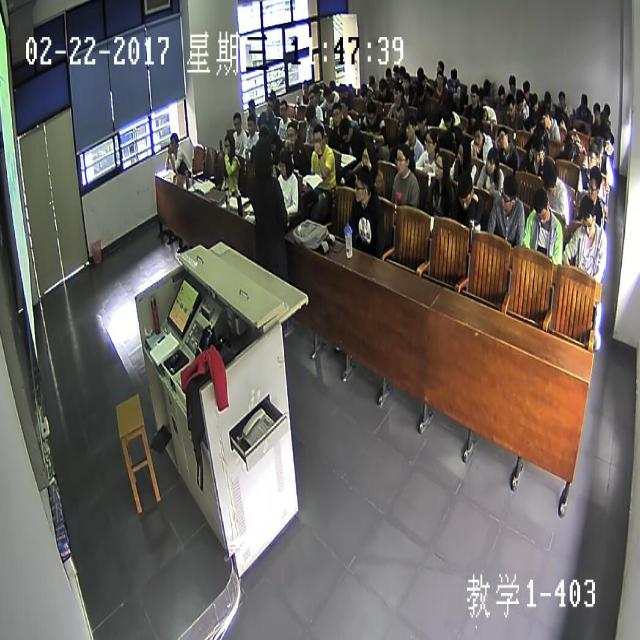person: (253, 138, 273, 179), (499, 172, 518, 212), (579, 194, 597, 236), (354, 165, 373, 202), (457, 174, 475, 208), (532, 188, 549, 224), (361, 142, 376, 176), (542, 163, 558, 194), (587, 164, 600, 201), (396, 143, 411, 175), (338, 115, 353, 146), (456, 135, 471, 165), (312, 122, 326, 154), (485, 144, 499, 174), (278, 150, 292, 178), (435, 151, 448, 180), (424, 128, 438, 154), (495, 124, 509, 150), (404, 114, 417, 140), (286, 121, 298, 149), (563, 134, 577, 158), (473, 119, 484, 149), (586, 142, 597, 171), (592, 134, 603, 162), (531, 133, 542, 161), (331, 101, 342, 128), (304, 105, 316, 129), (224, 132, 235, 158), (268, 128, 279, 154), (416, 105, 426, 132), (365, 100, 376, 124), (259, 122, 269, 148), (392, 82, 404, 103), (442, 104, 452, 129), (232, 110, 242, 134), (527, 110, 538, 131), (338, 96, 348, 118), (378, 76, 388, 98), (469, 82, 479, 104), (534, 120, 544, 142), (541, 108, 551, 130), (530, 90, 540, 112), (514, 88, 524, 110), (506, 95, 516, 116), (475, 103, 486, 122), (554, 108, 565, 127), (449, 66, 459, 86), (247, 112, 256, 134), (307, 88, 316, 110), (497, 83, 506, 105), (602, 126, 610, 150), (322, 85, 332, 104), (476, 84, 486, 103), (278, 98, 287, 119), (483, 76, 491, 98), (508, 72, 516, 94), (402, 71, 411, 90), (543, 88, 552, 107), (602, 102, 611, 121), (593, 100, 600, 124), (415, 82, 424, 100), (580, 92, 589, 110), (170, 132, 178, 152), (417, 73, 427, 89), (247, 98, 255, 117), (391, 63, 399, 82), (557, 89, 565, 108), (358, 81, 368, 96), (300, 79, 308, 97), (384, 66, 392, 84), (436, 58, 444, 76), (522, 80, 530, 98), (328, 76, 336, 93), (338, 82, 346, 99), (367, 72, 376, 87), (398, 63, 405, 82), (312, 83, 320, 99), (416, 65, 424, 81), (266, 95, 273, 113), (269, 88, 276, 106), (436, 70, 443, 88), (341, 81, 349, 96)
